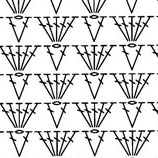enseble_chain: (86, 39, 122, 75), (11, 98, 47, 134), (124, 68, 158, 106), (12, 41, 47, 76), (89, 98, 123, 134), (51, 70, 84, 106), (106, 125, 139, 158), (126, 125, 158, 158), (51, 127, 85, 158), (107, 10, 136, 46), (69, 39, 98, 75), (122, 100, 153, 133), (70, 97, 98, 133), (121, 42, 151, 75), (107, 69, 136, 103), (47, 43, 76, 75), (48, 101, 76, 133), (35, 70, 61, 103), (87, 72, 114, 103), (0, 41, 23, 75), (12, 16, 38, 46), (88, 129, 114, 158), (12, 129, 38, 158), (36, 128, 61, 158), (89, 15, 113, 45), (13, 73, 37, 103), (38, 14, 61, 45), (3, 100, 24, 131), (126, 14, 144, 42), (52, 15, 68, 42)
fan: (0, 99, 24, 131), (50, 73, 66, 100), (50, 130, 66, 156), (125, 130, 141, 156)
